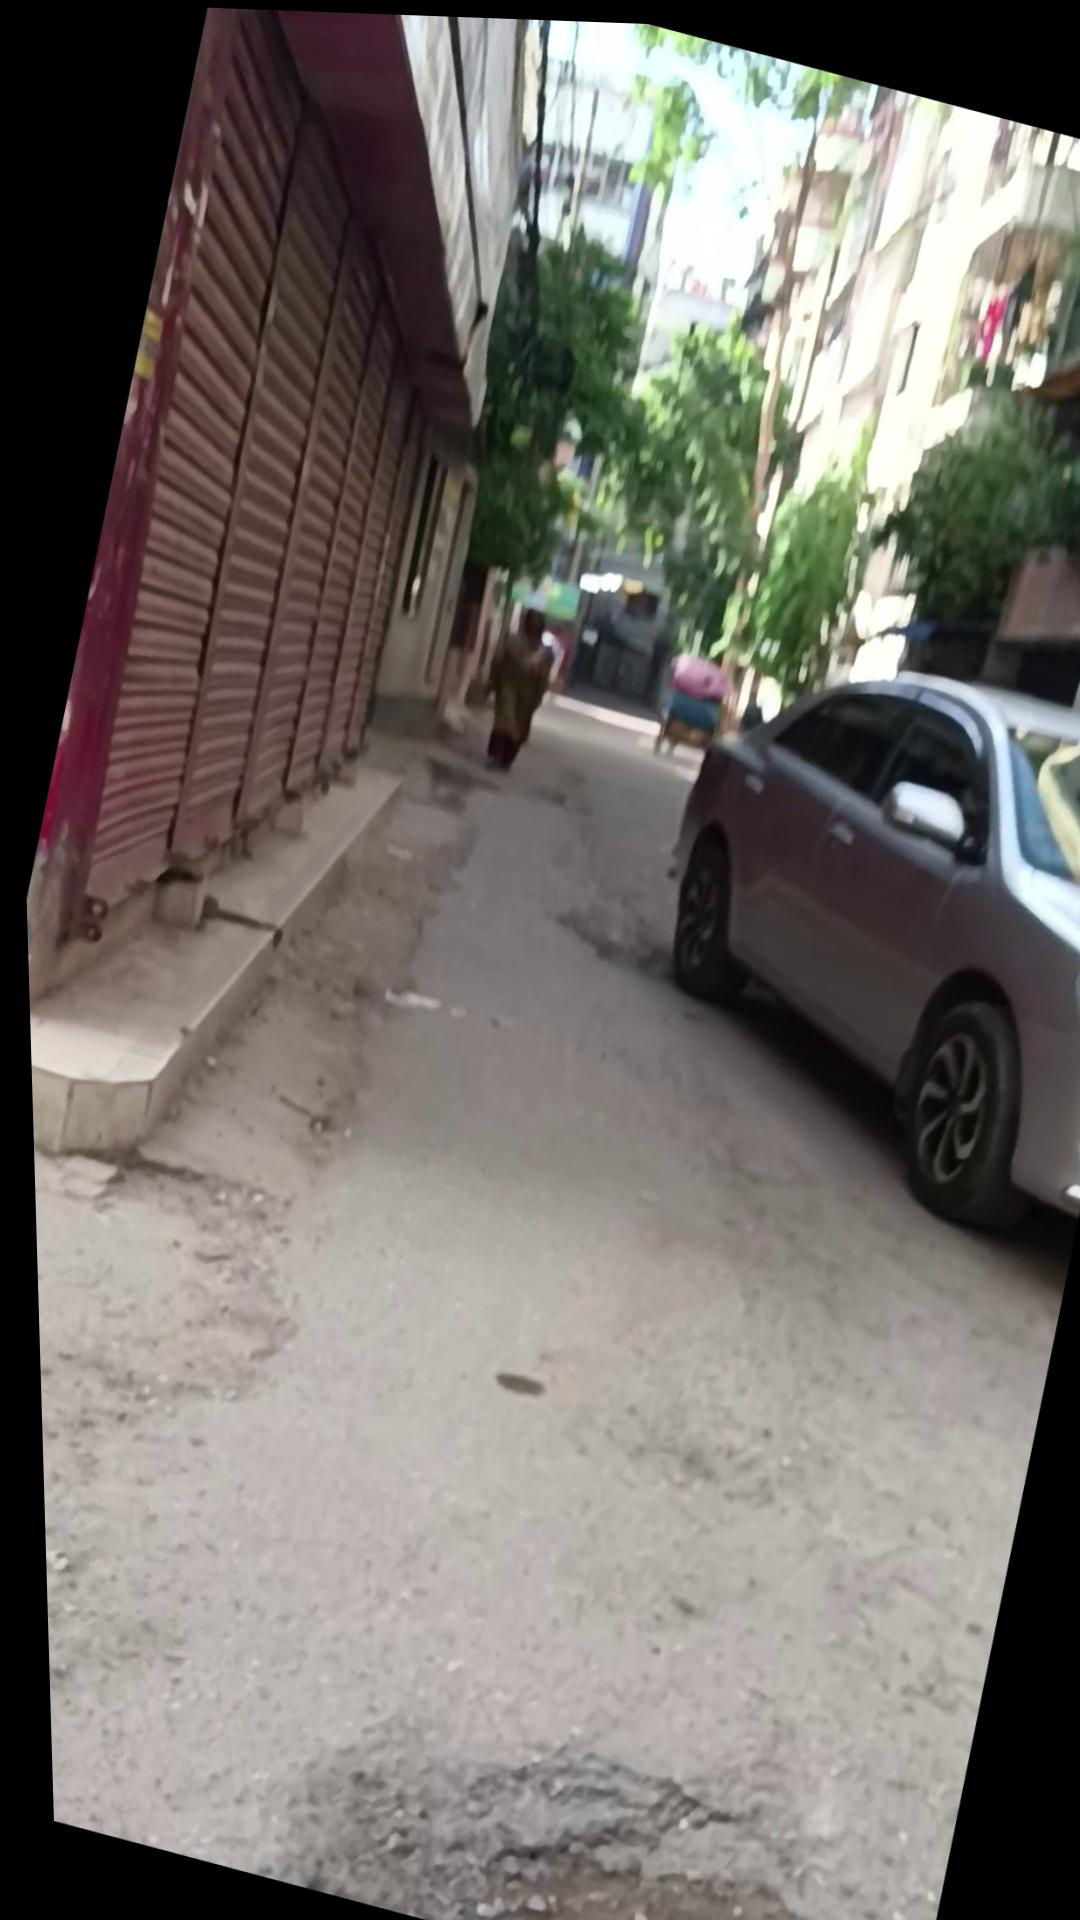Broken-road: (251, 1671, 942, 1920)
Car: (592, 600, 1080, 1246)
Crosswalk: (16, 680, 411, 1224)
Muddy road: (460, 593, 564, 778)
